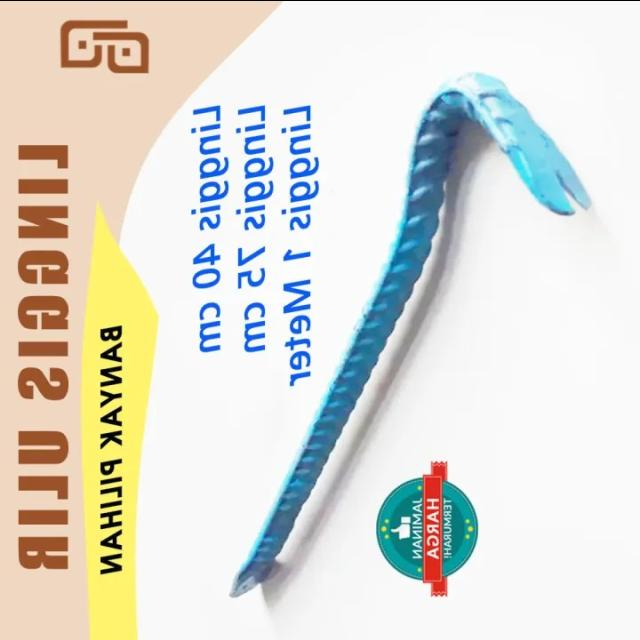Linggis: (225, 75, 591, 598)
